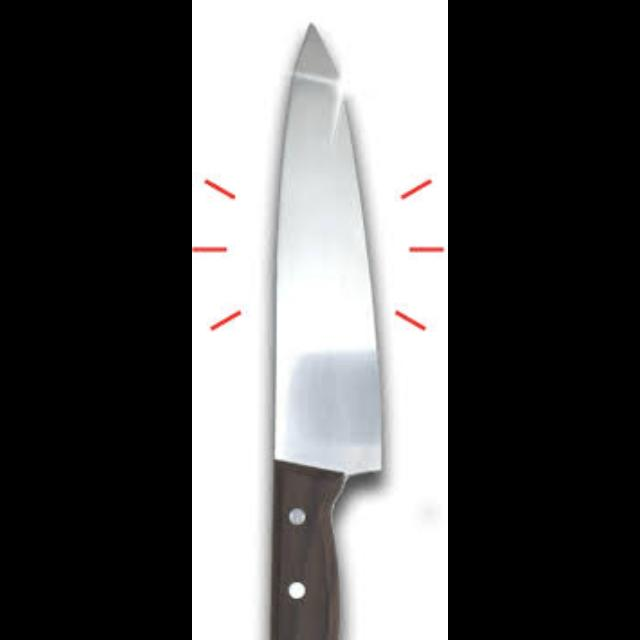Knife: (270, 22, 382, 638)
